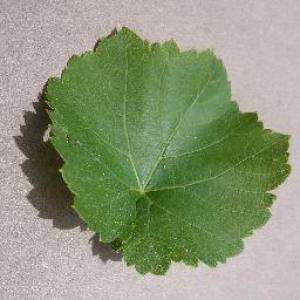Folha: (41, 24, 292, 276)
